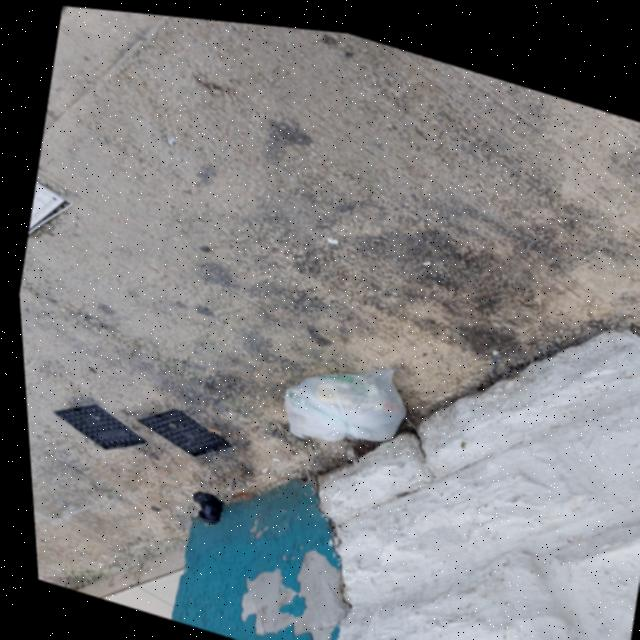Organic Waste -White Bag-: (267, 328, 413, 462)
